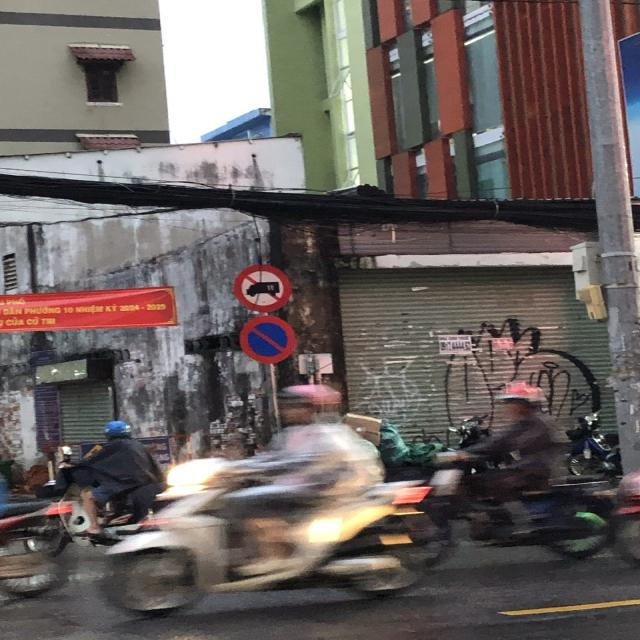Bien bao cam do xe: (234, 314, 304, 369)
Bien bao cam xe oto tai: (228, 261, 298, 312)
